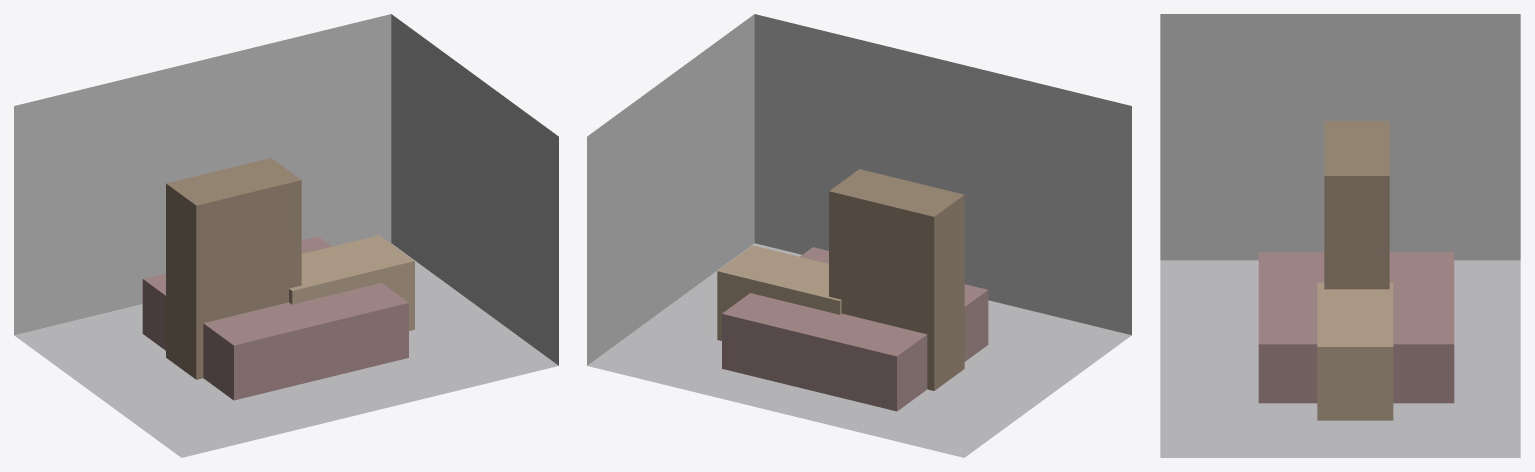
File: optimised_layout.glb
The picture shows the model from 3 angles, left to right: view 1: azimuth 30°, elevation 25°; view 2: azimuth 150°, elevation 25°; view 3: azimuth 270°, elevation 25°; orthographic projection. The views are drawn at different scales.
Parts seen in each view (by area): view 1: room, wardrobe, bed, desk; view 2: room, wardrobe, bed, desk; view 3: room, bed, wardrobe, desk.
Boxes of the visible parts, left/top/right/bottom form: room: left=14, top=14, right=558, bottom=457; wardrobe: left=166, top=158, right=301, bottom=379; bed: left=142, top=236, right=408, bottom=400; desk: left=289, top=235, right=414, bottom=330; room: left=587, top=14, right=1131, bottom=457; wardrobe: left=829, top=169, right=964, bottom=390; bed: left=722, top=247, right=988, bottom=411; desk: left=717, top=245, right=841, bottom=340; room: left=1160, top=14, right=1520, bottom=457; bed: left=1258, top=252, right=1454, bottom=403; wardrobe: left=1324, top=121, right=1389, bottom=289; desk: left=1317, top=282, right=1393, bottom=420.
Bounding box in the file's own units: 4.31 × 2.5 × 3.31.
